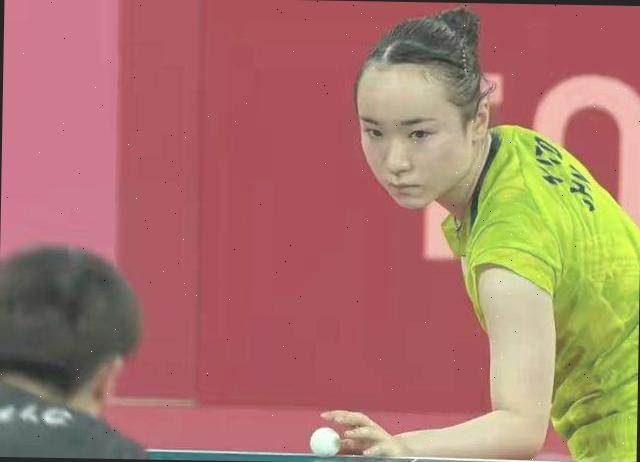ball: (305, 422, 343, 458)
